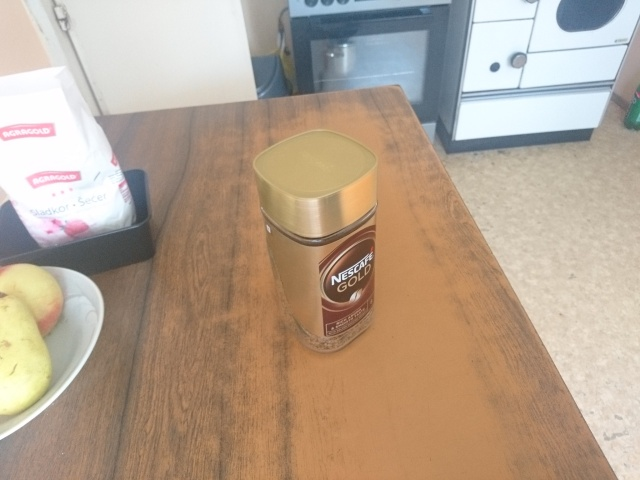Nescafe Gold 225g: (250, 127, 381, 357)
